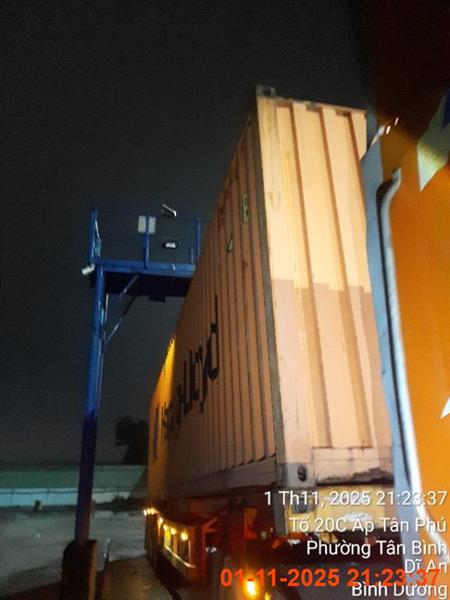hole: (141, 88, 448, 599)
